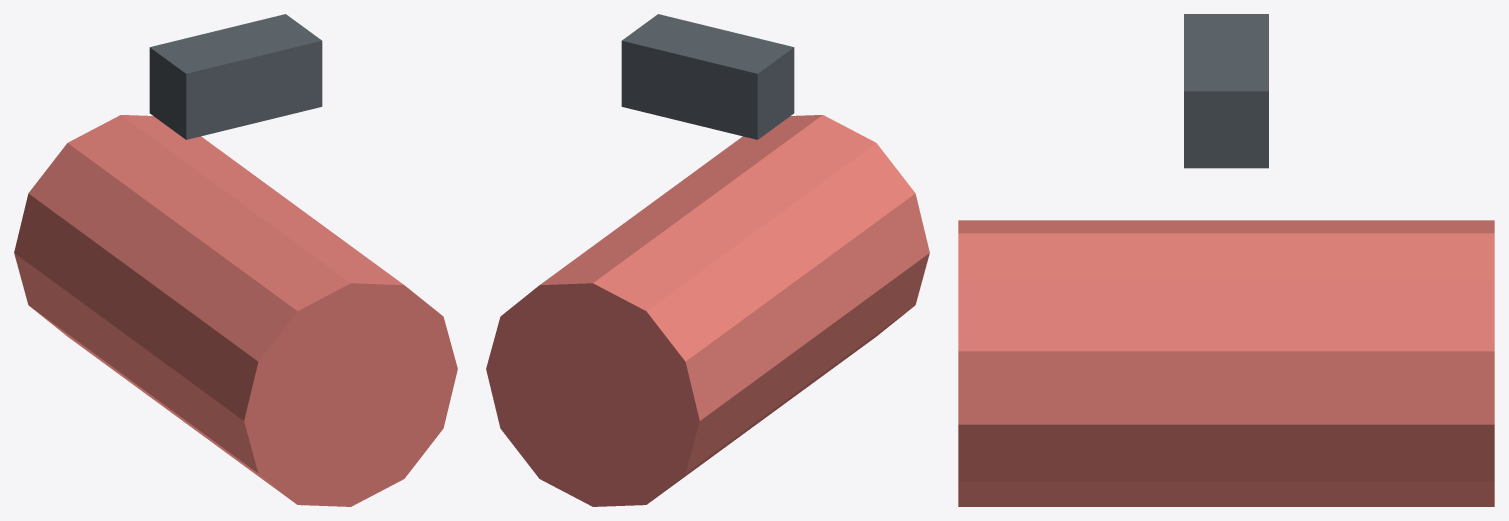
Rendered from extinguisher_lod0.glb.
The picture shows the model from 3 angles, left to right: view 1: azimuth 30°, elevation 25°; view 2: azimuth 150°, elevation 25°; view 3: azimuth 270°, elevation 25°; orthographic projection. The views are drawn at different scales.
Visible parts, largest first — view 1: part_0, part_1; view 2: part_0, part_1; view 3: part_0, part_1.
Boxes of the visible parts, x1,y1,x2,y2 form: part_0: (14,115,457,506); part_1: (149,14,322,139); part_0: (486,115,929,506); part_1: (621,14,794,139); part_0: (958,220,1494,506); part_1: (1184,14,1268,168).
Bounding box in the file's own units: 0.44 × 0.745 × 0.82.
